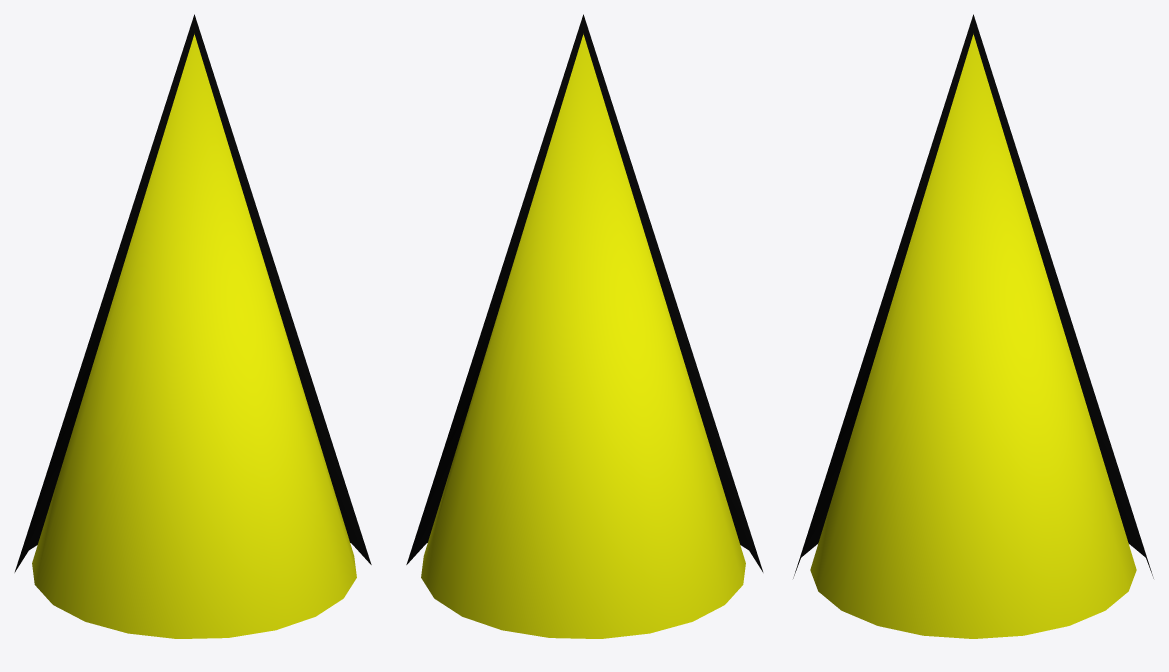
File: Spike.fbx
The picture shows the model from 3 angles, left to right: view 1: azimuth 30°, elevation 25°; view 2: azimuth 150°, elevation 25°; view 3: azimuth 270°, elevation 25°; orthographic projection.
Visible parts, largest first — view 1: polySurface30, polySurface29; view 2: polySurface30, polySurface29; view 3: polySurface30, polySurface29.
Boxes of the visible parts, left/top/right/bottom form: polySurface30: left=32, top=34, right=356, bottom=638; polySurface29: left=14, top=14, right=371, bottom=572; polySurface30: left=421, top=34, right=745, bottom=638; polySurface29: left=406, top=14, right=763, bottom=572; polySurface30: left=810, top=34, right=1136, bottom=638; polySurface29: left=793, top=14, right=1153, bottom=578.
Bounding box in the file's own units: 1.25 × 2.16 × 1.25.
